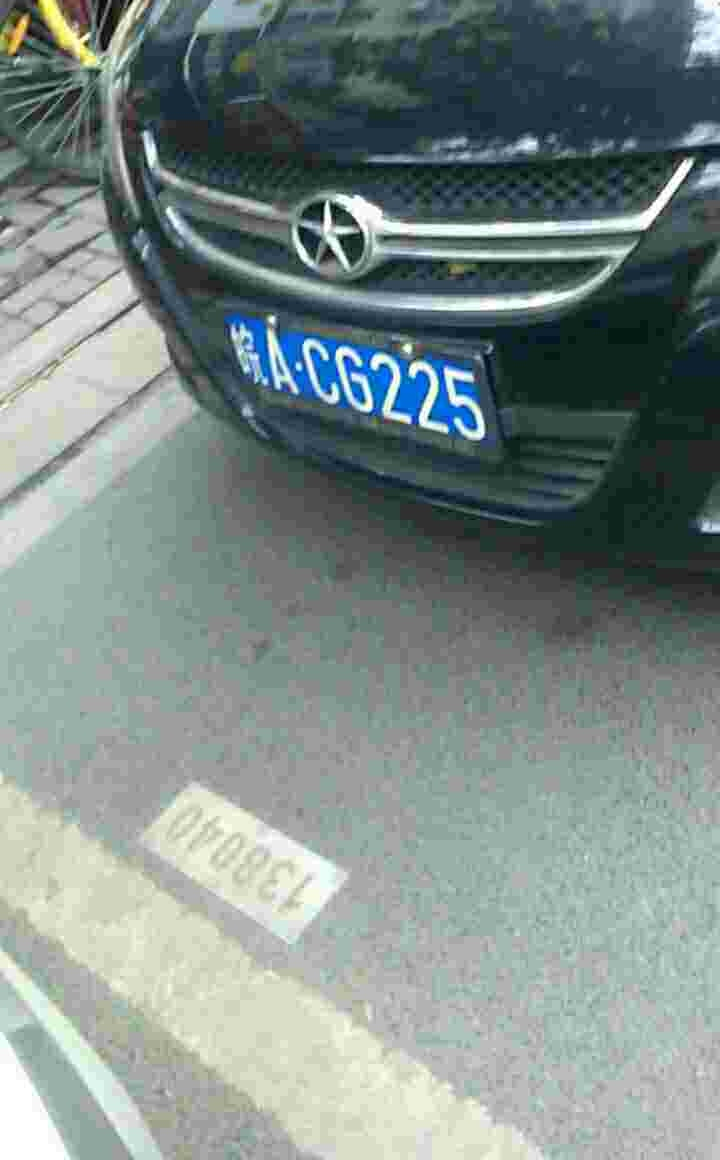license_plate: (223, 320, 495, 442)
